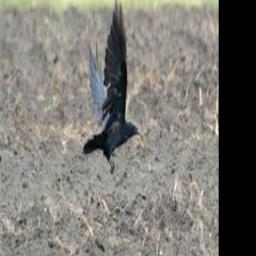Crow: (82, 0, 142, 177)
